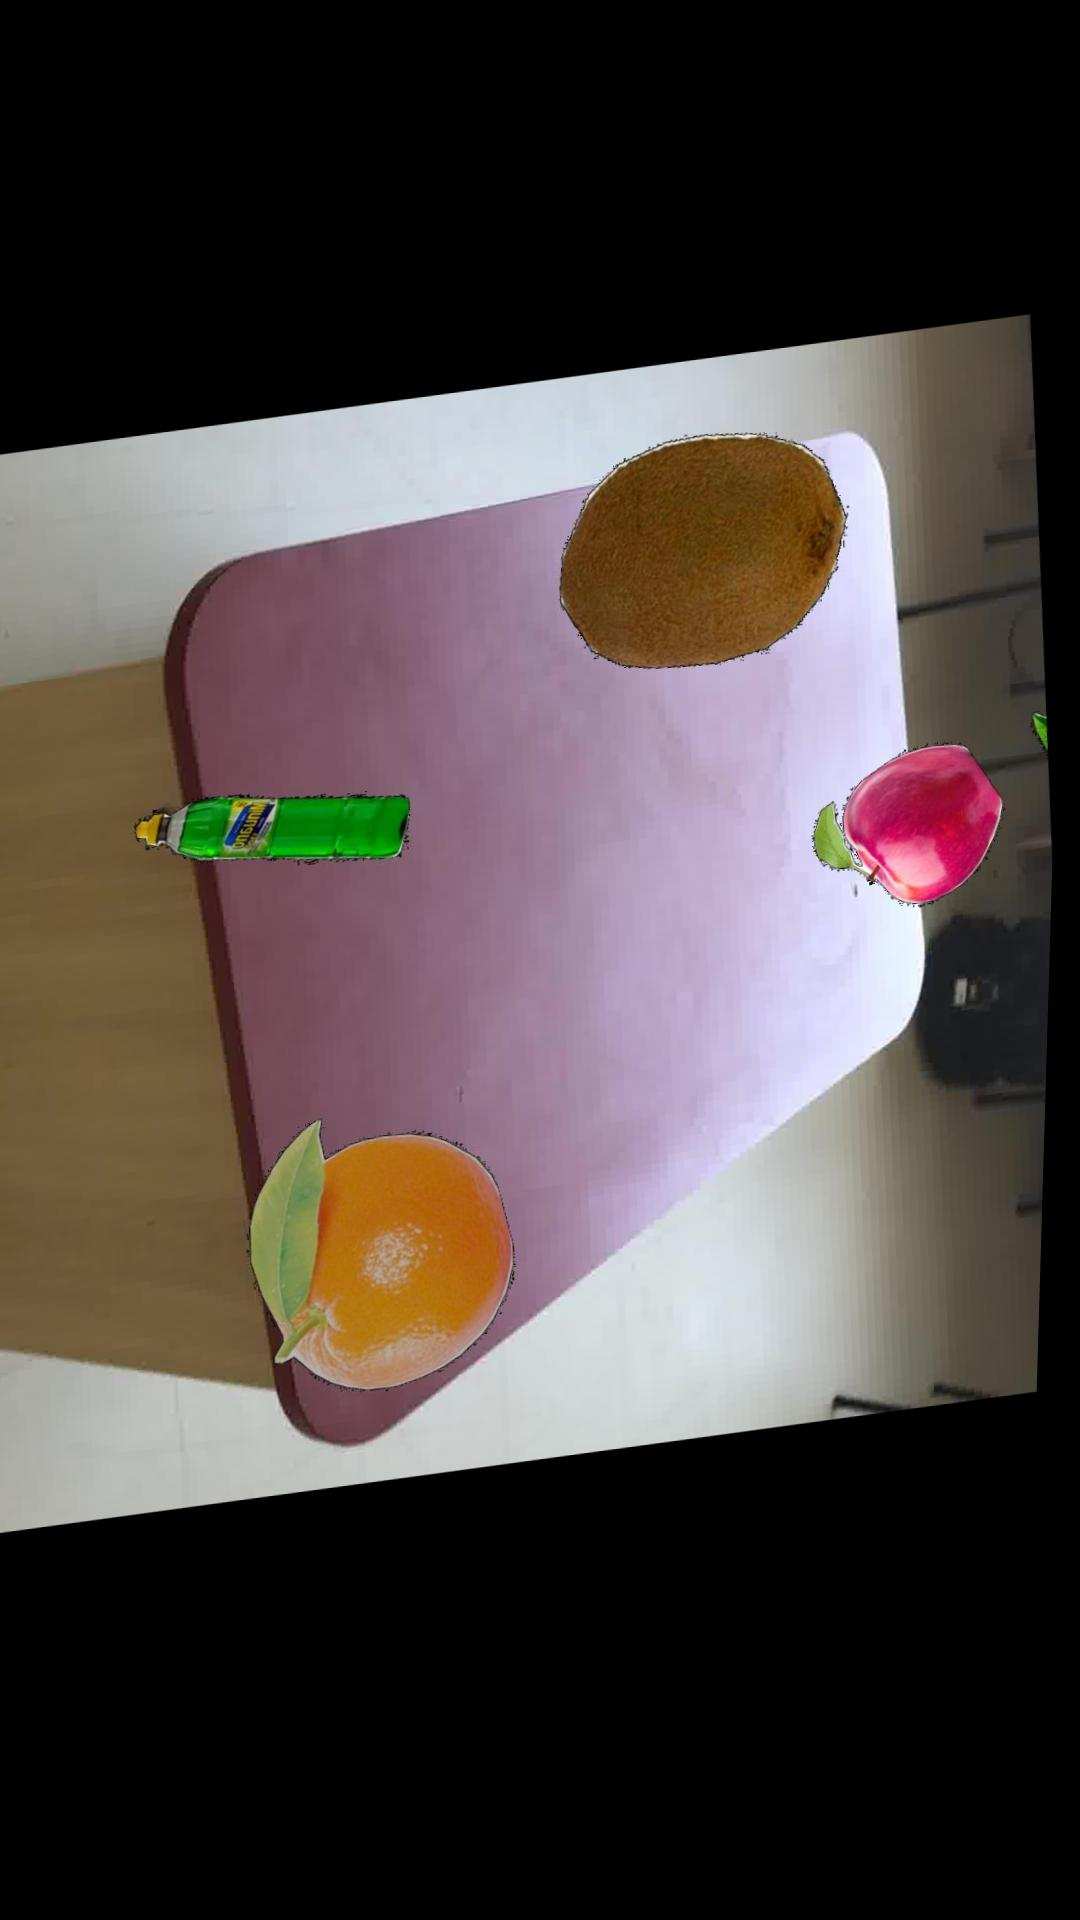apple: (818, 756, 1009, 916)
cleaner: (140, 796, 415, 868)
kiwi: (563, 442, 851, 676)
orange: (256, 1122, 524, 1395)
